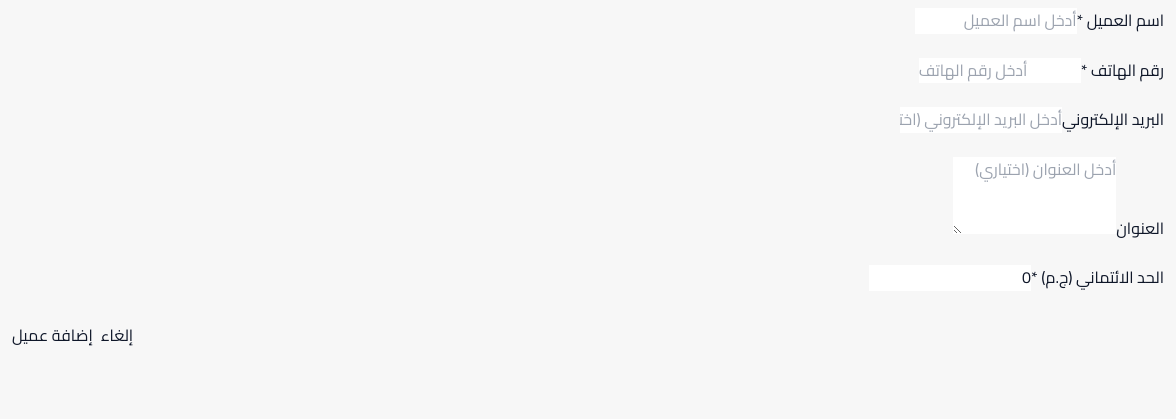
CustomerForm Component › يجب عرض رسالة خطأ للحقول الفارغة
The image size is (1176, 419).
Step 1. Click the button "إضافة عميل" → (52, 336), box [12,323,93,348]
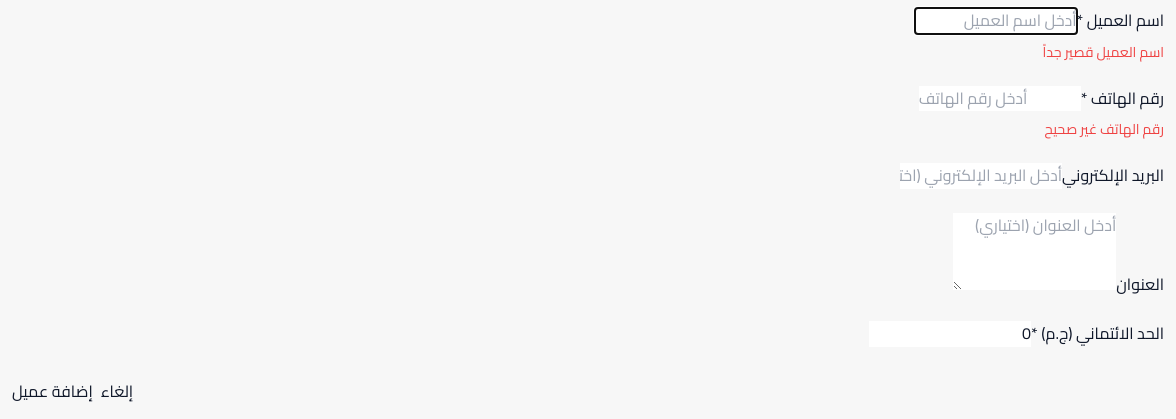
Expected: the text "اسم العميل قصير جداً" is shown, [1042,39,1164,65]
